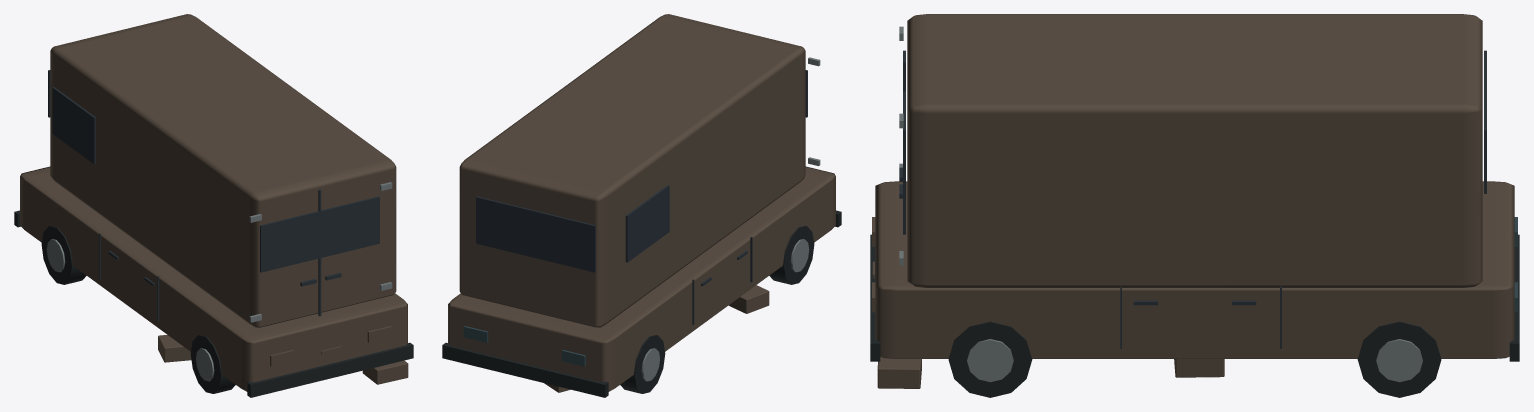
The model's file is van-wreck-2.glb.
The picture shows the model from 3 angles, left to right: view 1: azimuth 30°, elevation 25°; view 2: azimuth 150°, elevation 25°; view 3: azimuth 270°, elevation 25°; orthographic projection. The views are drawn at different scales.
Visible parts, largest first — view 1: van-wreck/1/KR-230-2; view 2: van-wreck/1/KR-230-2; view 3: van-wreck/1/KR-230-2.
Part boxes in pixels (<box>): van-wreck/1/KR-230-2: <box>14,14,413,397</box>; van-wreck/1/KR-230-2: <box>442,14,841,397</box>; van-wreck/1/KR-230-2: <box>870,14,1519,397</box>.
Size of the model in its own units: 2.23 by 2.6 by 5.28.
